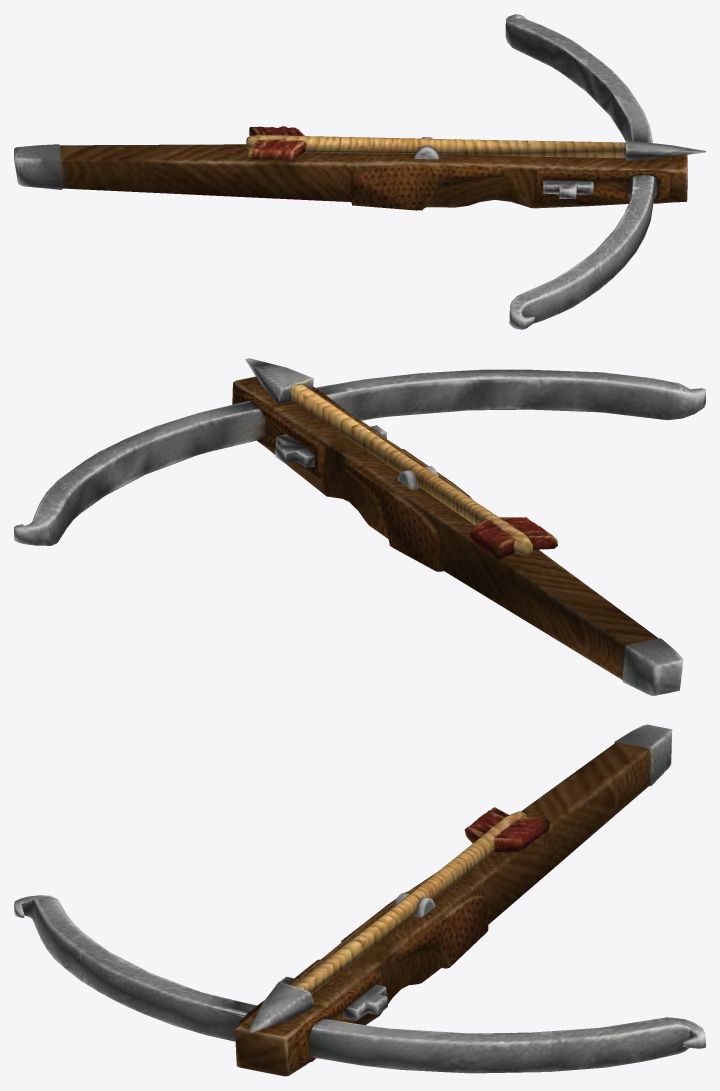
File: Crossbow_1.glb
3 views of the same model, one above another, from view 1: azimuth 30°, elevation 25°; view 2: azimuth 150°, elevation 25°; view 3: azimuth 270°, elevation 25° (orthographic). The views are drawn at different scales.
Visible parts, largest first — view 1: Elf Female Crossbow Ranger.005; view 2: Elf Female Crossbow Ranger.005; view 3: Elf Female Crossbow Ranger.005.
Boxes of the visible parts, x1=… form: Elf Female Crossbow Ranger.005: x1=14, y1=14, x2=705, y2=329; Elf Female Crossbow Ranger.005: x1=14, y1=358, x2=705, y2=695; Elf Female Crossbow Ranger.005: x1=14, y1=724, x2=705, y2=1076.
Size of the model in its own units: 1.54 by 0.1759 by 1.42.
1 material, 1 textured.
